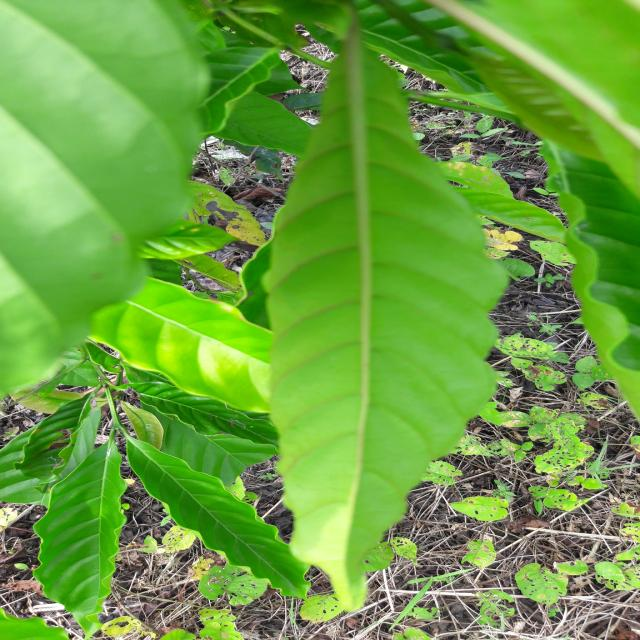Sanas: (244, 18, 512, 617)
